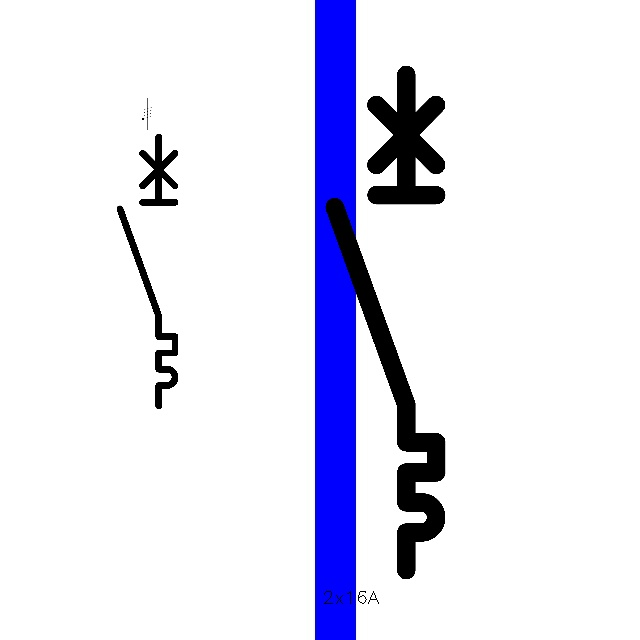interruptor_termomagnetico: (322, 62, 449, 583), (113, 130, 182, 413)
